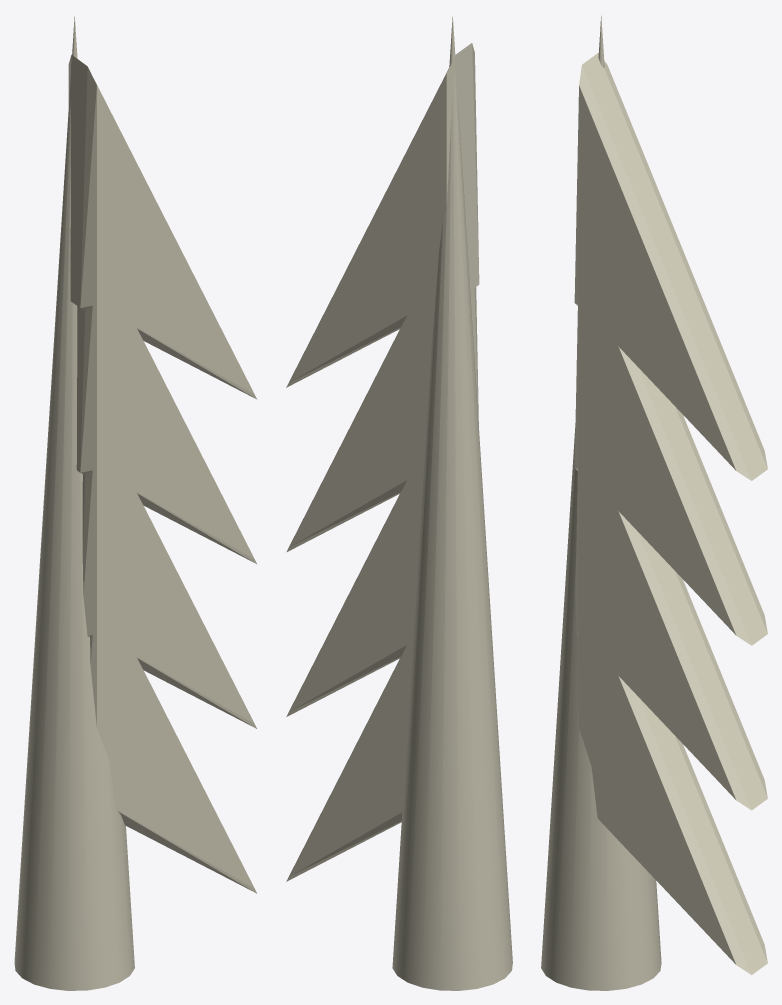
File: primitive-crafting-workshop-bone-harpoon-head-ed126977__21546.glb
The picture shows the model from 3 angles, left to right: view 1: azimuth 30°, elevation 25°; view 2: azimuth 150°, elevation 25°; view 3: azimuth 330°, elevation 25°; orthographic projection.
Parts seen in each view (by area): view 1: bone-harpoon-head; view 2: bone-harpoon-head; view 3: bone-harpoon-head.
Boxes of the visible parts, left/top/right/bottom form: bone-harpoon-head: left=14, top=16, right=257, bottom=990; bone-harpoon-head: left=286, top=16, right=512, bottom=990; bone-harpoon-head: left=541, top=16, right=767, bottom=990.
Size of the model in its own units: 0.0627 by 0.26 by 0.03.
